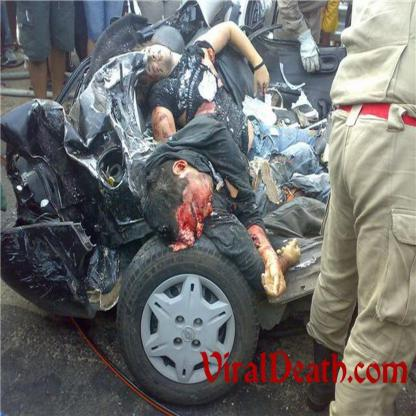face: (182, 183, 222, 234), (143, 46, 171, 74)
